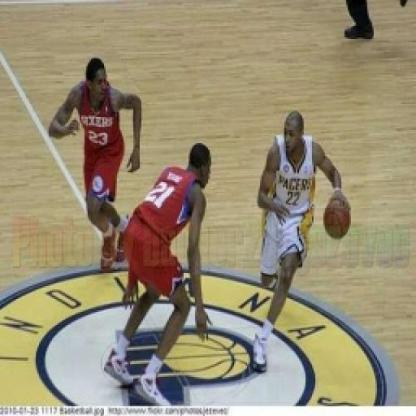basketball: (319, 195, 353, 242)
